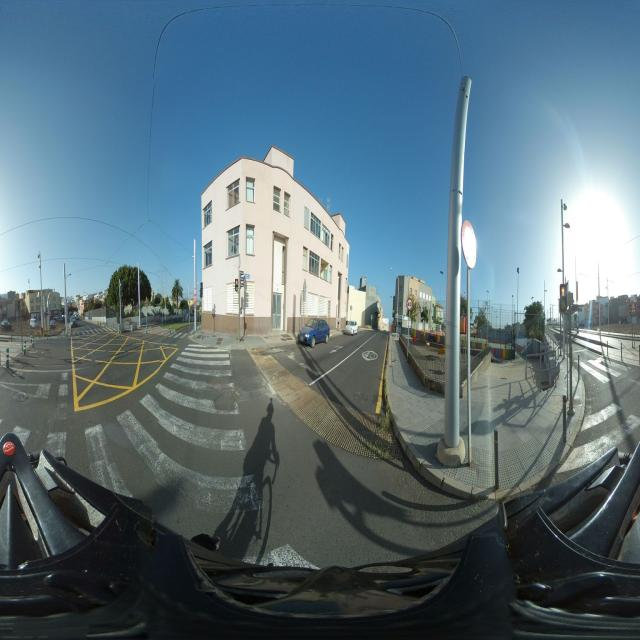forb_stopping: (194, 302, 196, 309), (102, 306, 104, 309)
